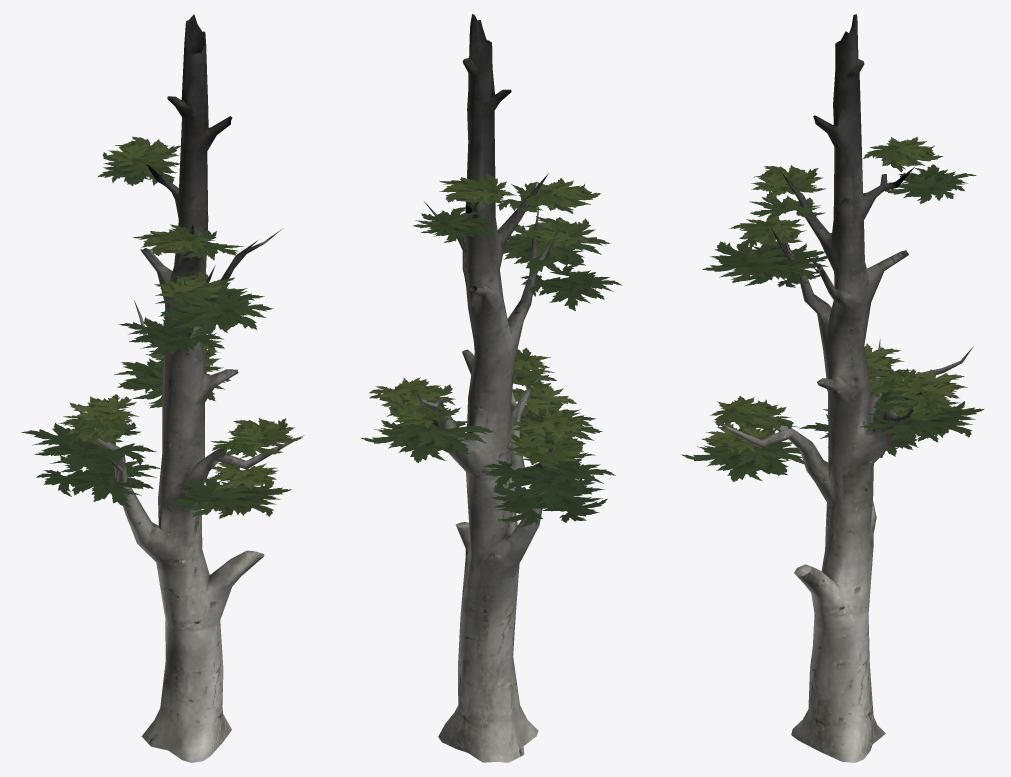
Rendered from tree_oak_04.fbx.
The picture shows the model from 3 angles, left to right: view 1: azimuth 30°, elevation 25°; view 2: azimuth 150°, elevation 25°; view 3: azimuth 270°, elevation 25°; orthographic projection.
Visible parts, largest first — view 1: tree_oak_04; view 2: tree_oak_04; view 3: tree_oak_04.
Part boxes in pixels (x1,y1,x2,y2): tree_oak_04: [21, 14, 304, 762]; tree_oak_04: [360, 14, 621, 762]; tree_oak_04: [681, 14, 984, 762].
Size of the model in its own units: 16580 by 49780 by 20510.
